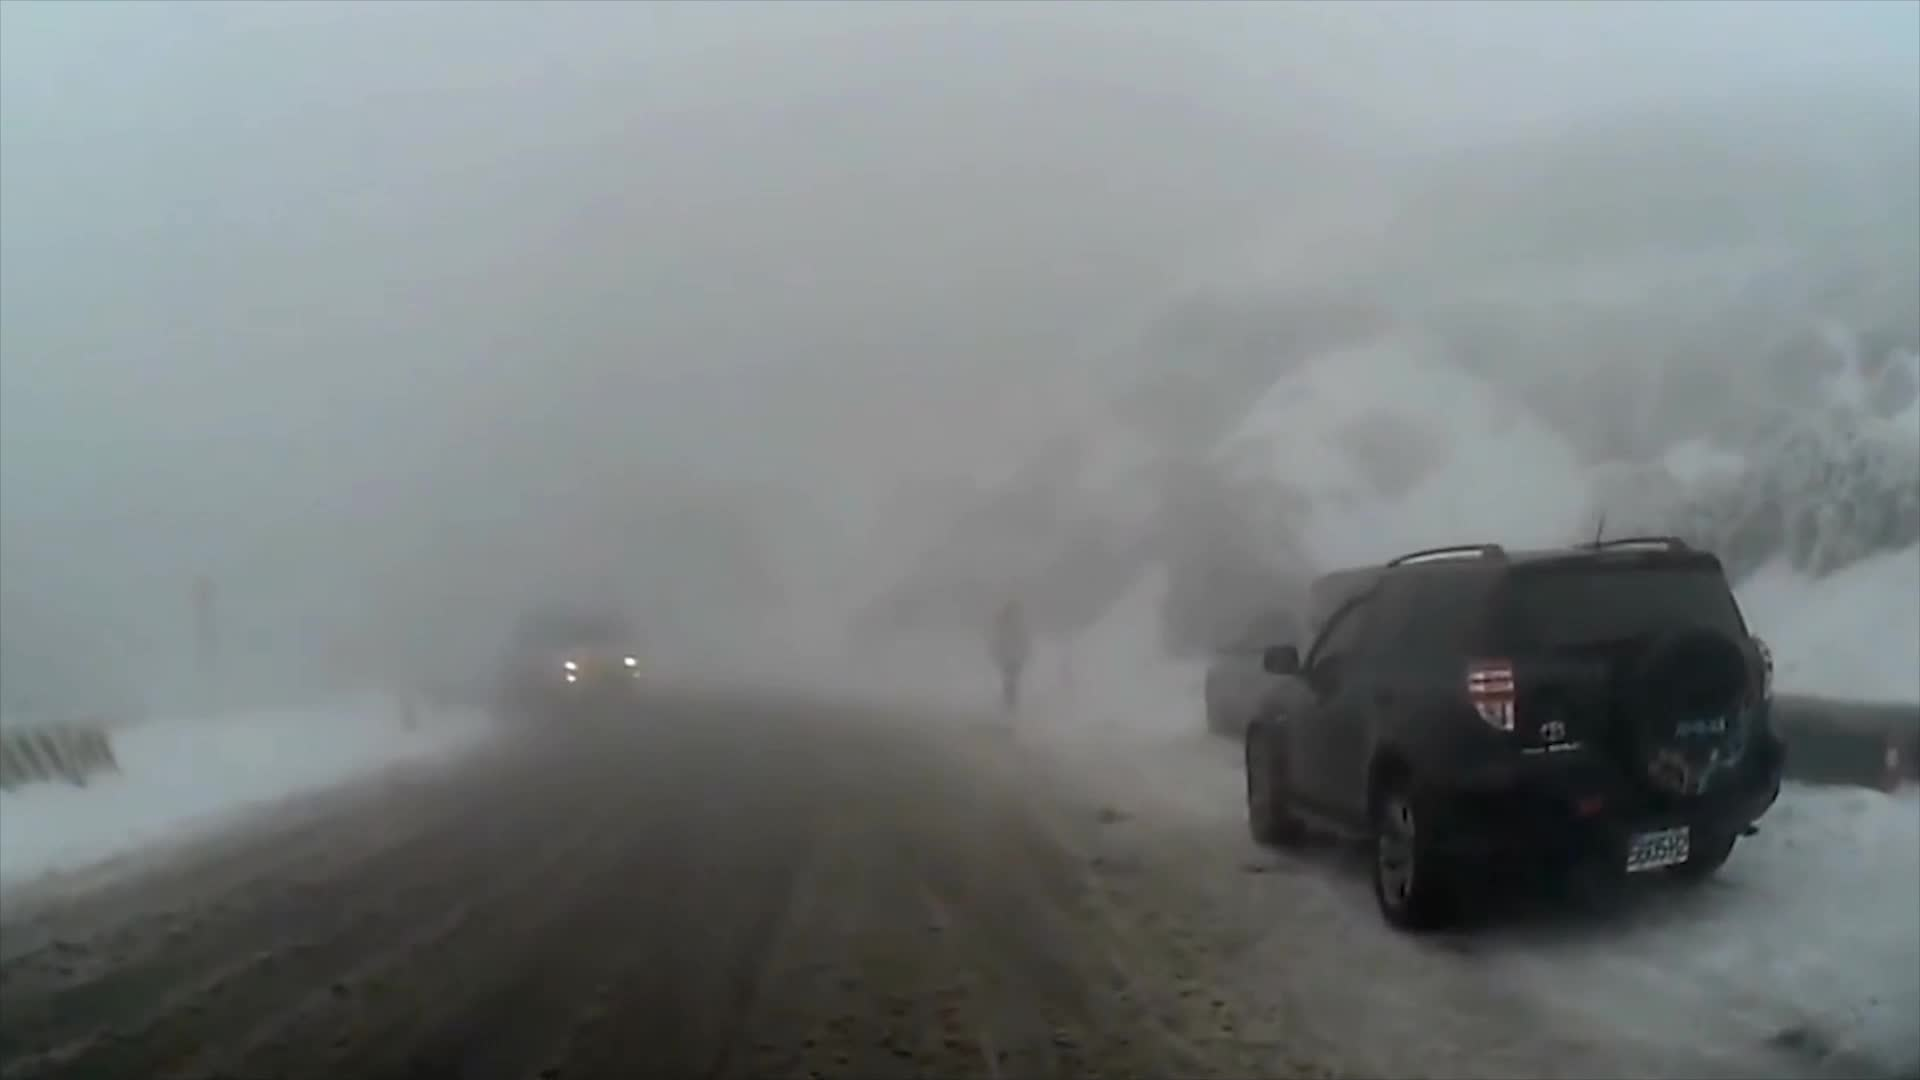pedestrian: (987, 599, 1036, 707)
vehicle: (1241, 535, 1786, 938), (516, 613, 650, 718)
